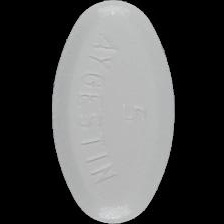51285-424: (0, 0, 224, 224)
